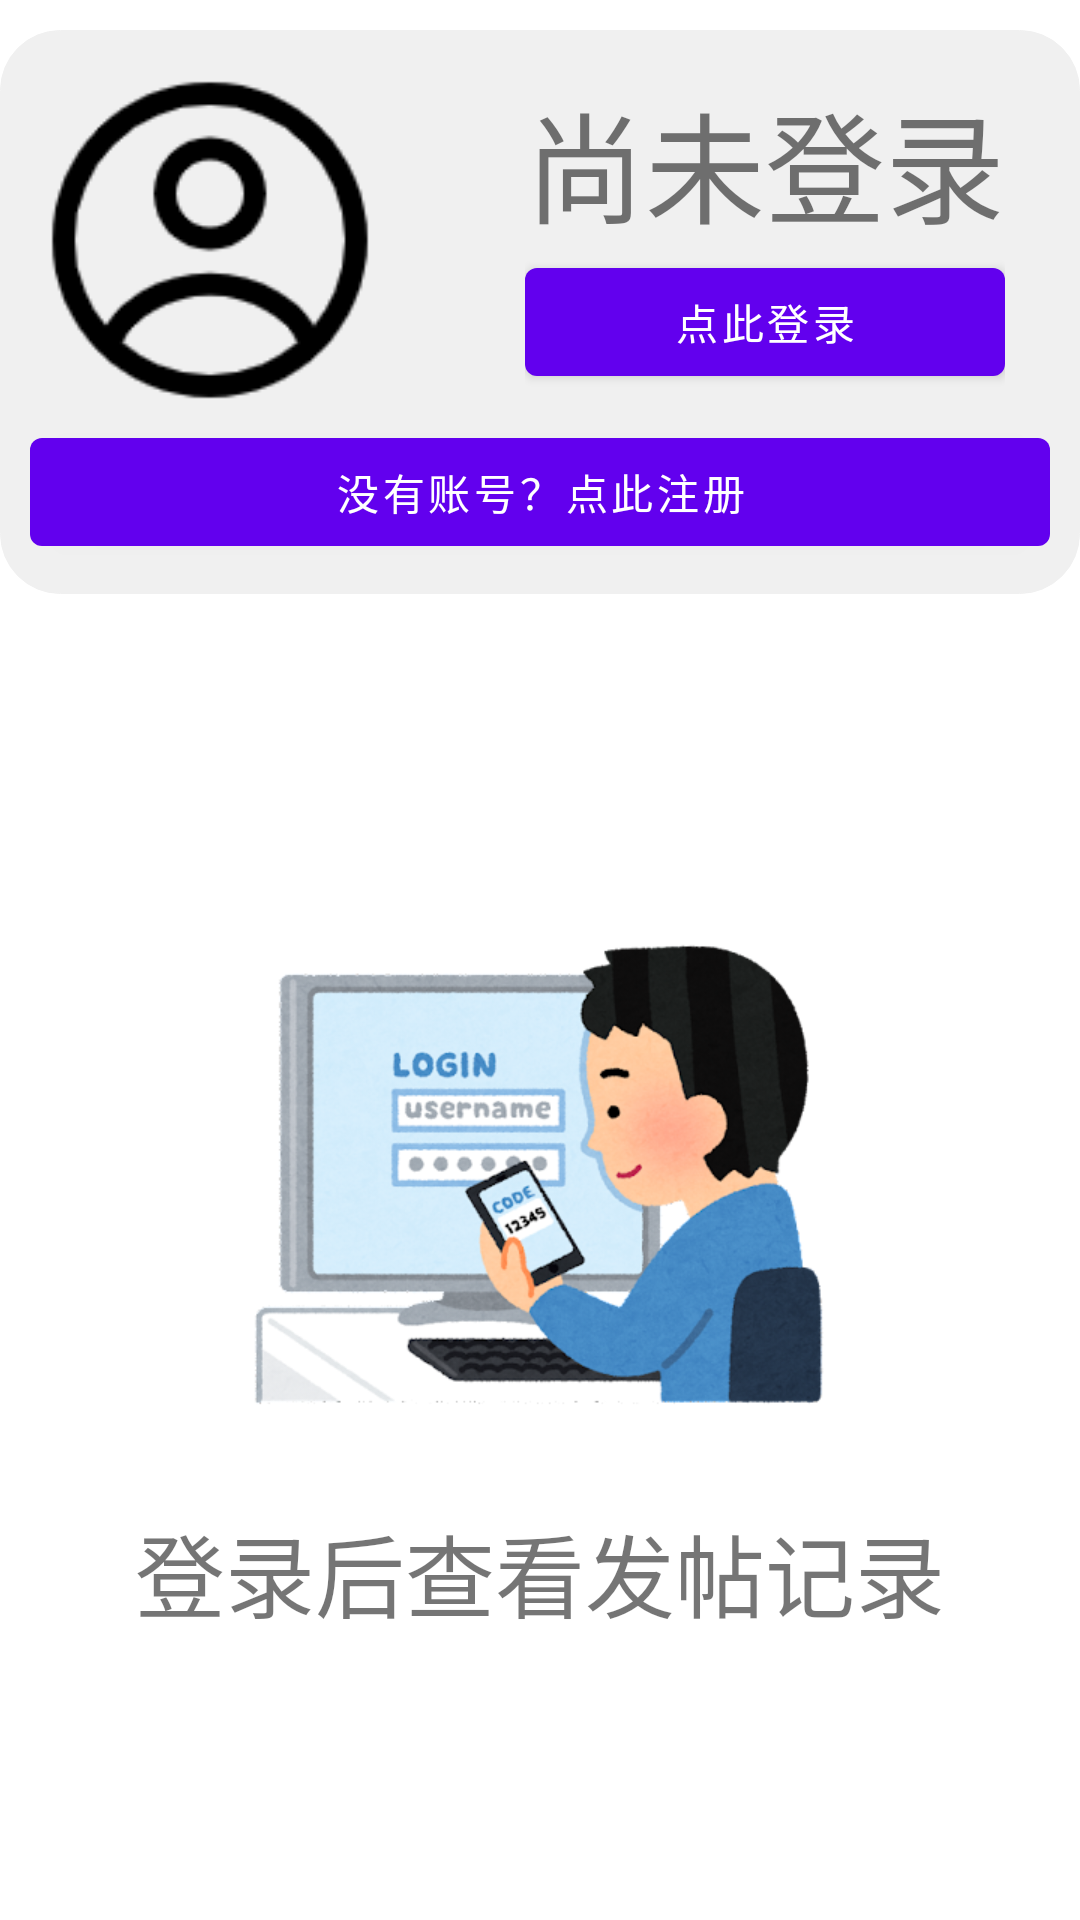

Icons on this 1080 × 1920 Android screen, each with the point to tap as (x,y):
unlogin: (210,240)
